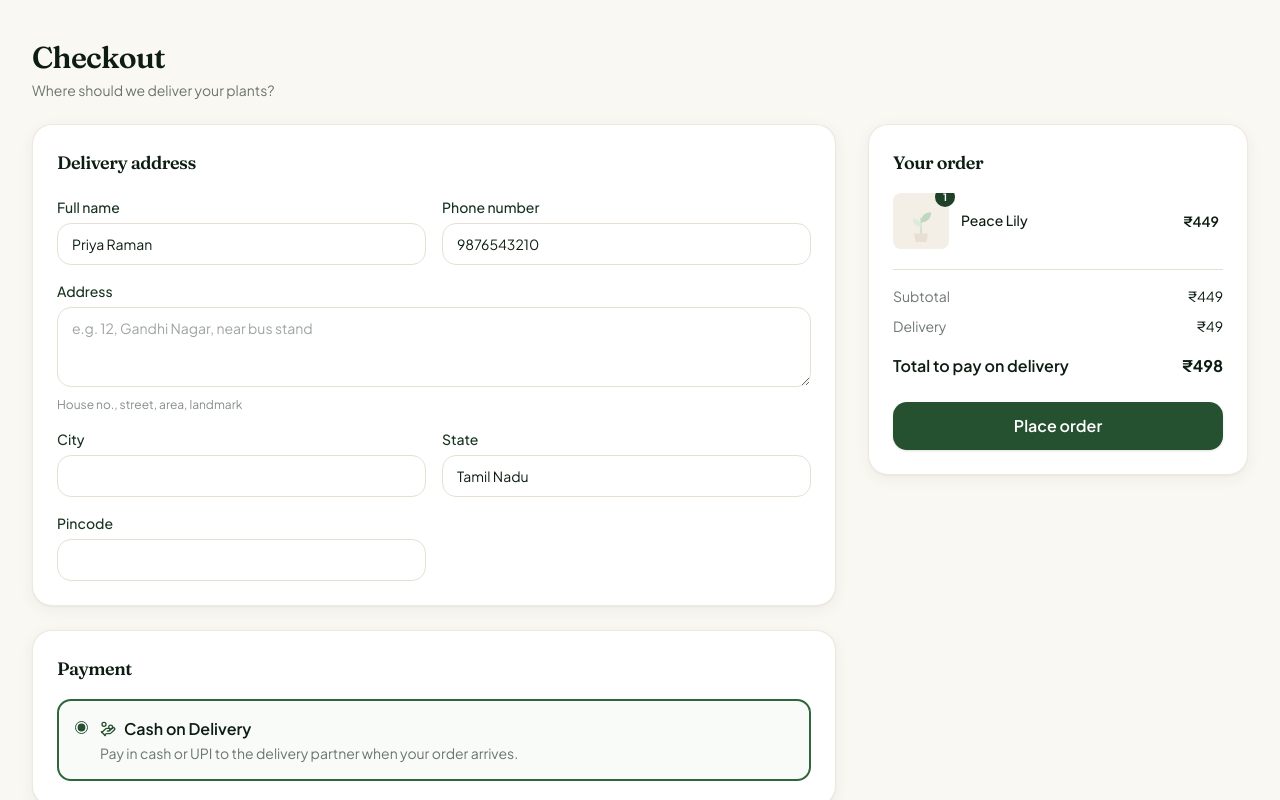
checkout address › catches a short address and bad pincode before placing the order
Step 1. Type "test" into the text box labelled "Address" → (434, 347), box top-left (57, 307), bottom-right (811, 387)
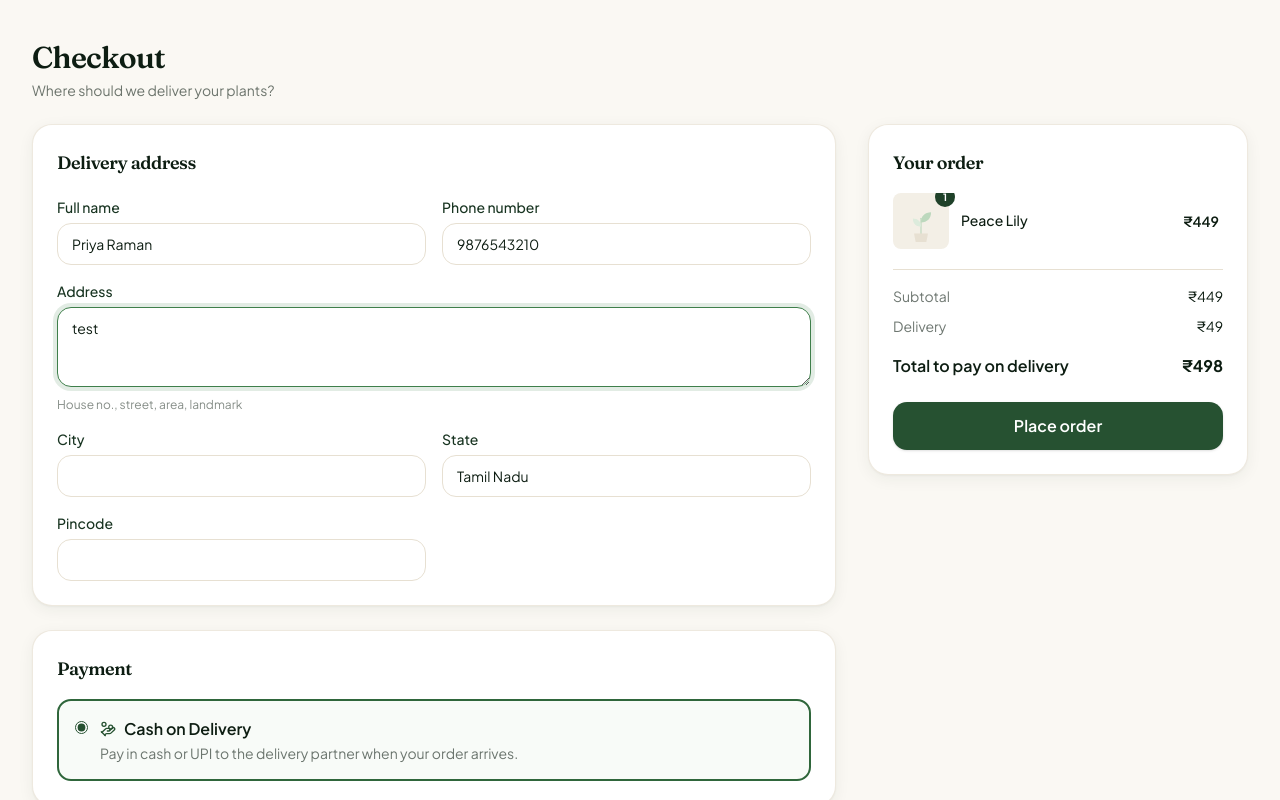
Step 2. Type "Coimbatore" into the field labelled "City" → (242, 476), box top-left (57, 455), bottom-right (426, 497)
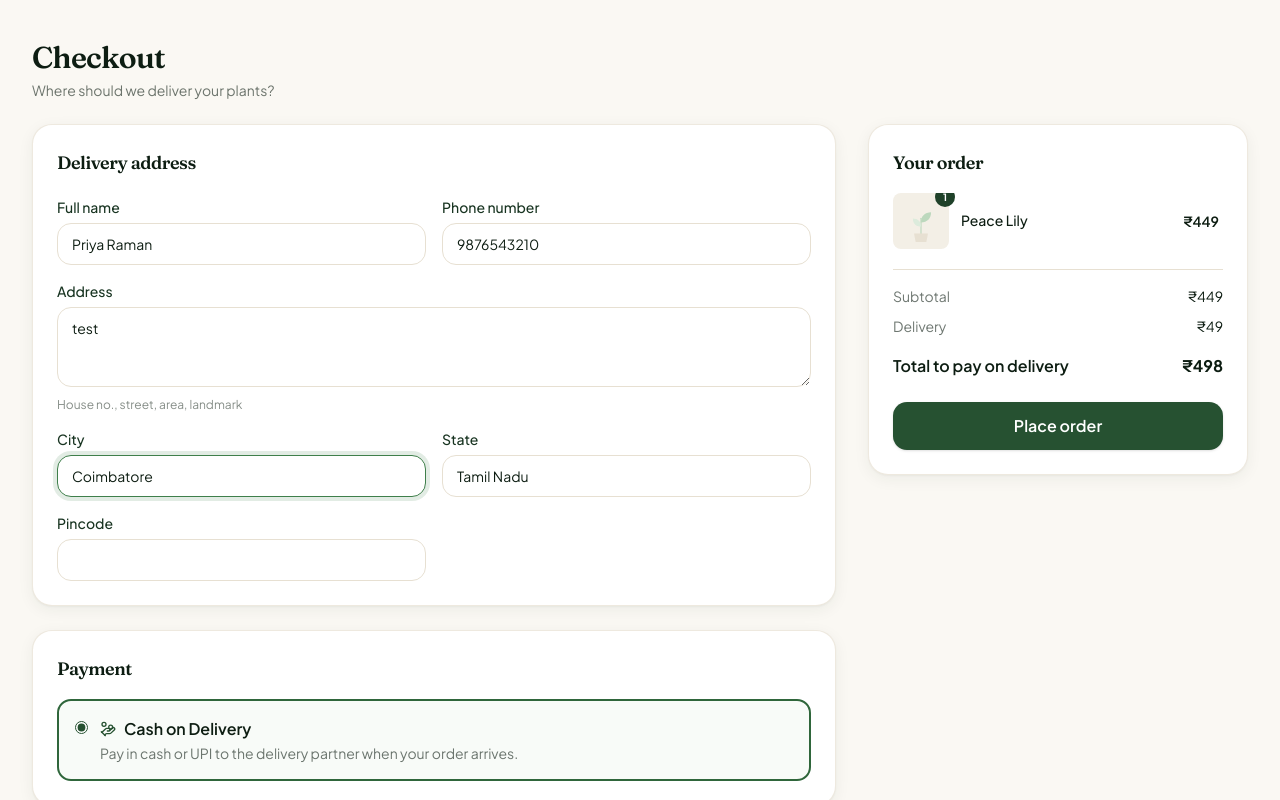
Step 3. Type "123" into the field labelled "Pincode" → (242, 560), box top-left (57, 539), bottom-right (426, 581)
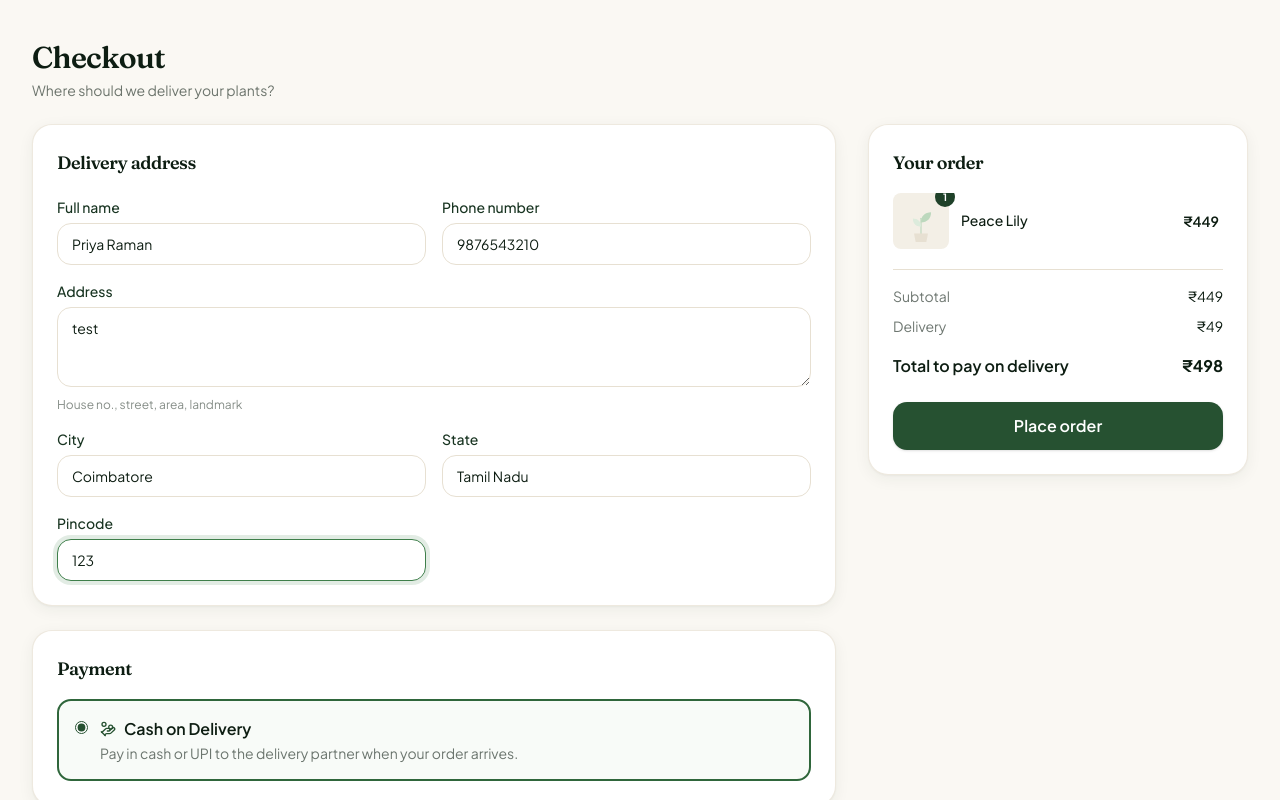
Step 4. Click the button "Place order" → (1058, 426), box top-left (893, 402), bottom-right (1223, 450)
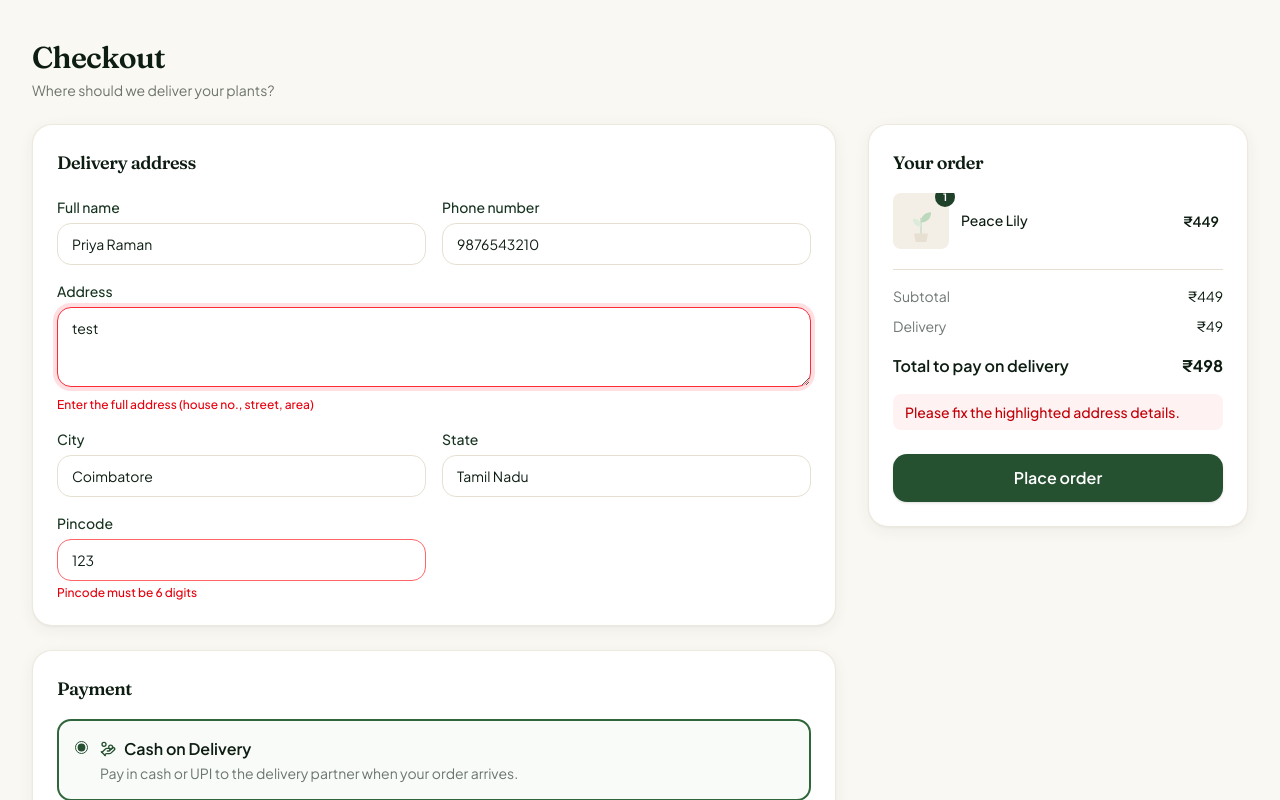
Result: the text "Enter the full address (house no., street, area)" is shown at top-left (57, 397), bottom-right (314, 412)
Result: the text "Pincode must be 6 digits" is shown at top-left (57, 585), bottom-right (197, 600)
Result: the text "Please fix the highlighted address details." is shown at top-left (893, 394), bottom-right (1223, 430)
